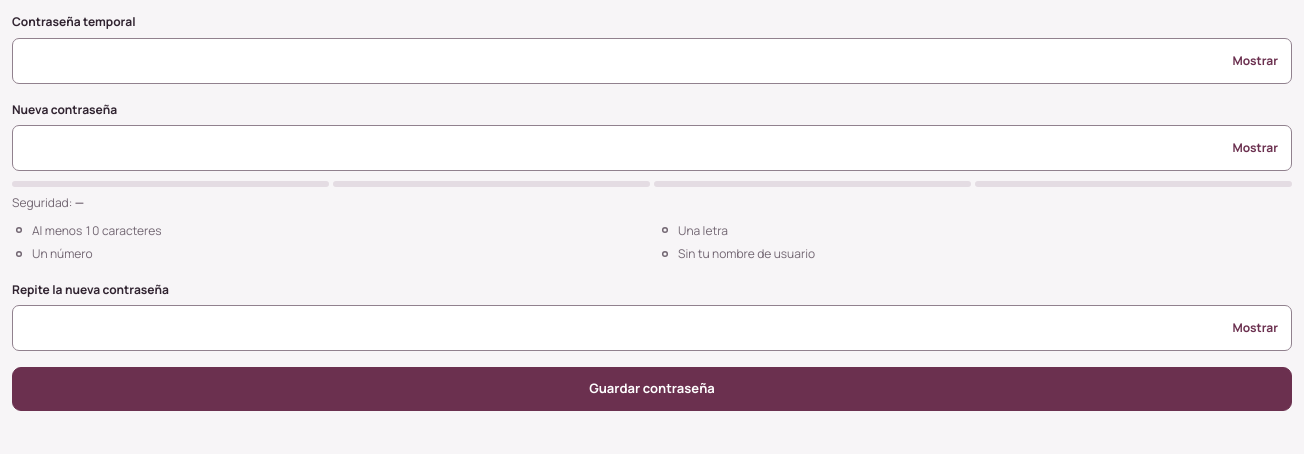
Scenario: FormularioCambioContrasena › muestra junto al campo lo que la política del backend rechaza
The width and height of the screenshot is (1304, 454).
Type "Temporal-1" into the password field labelled "Contraseña temporal". click: (652, 60)
box: [12, 38, 1292, 84]
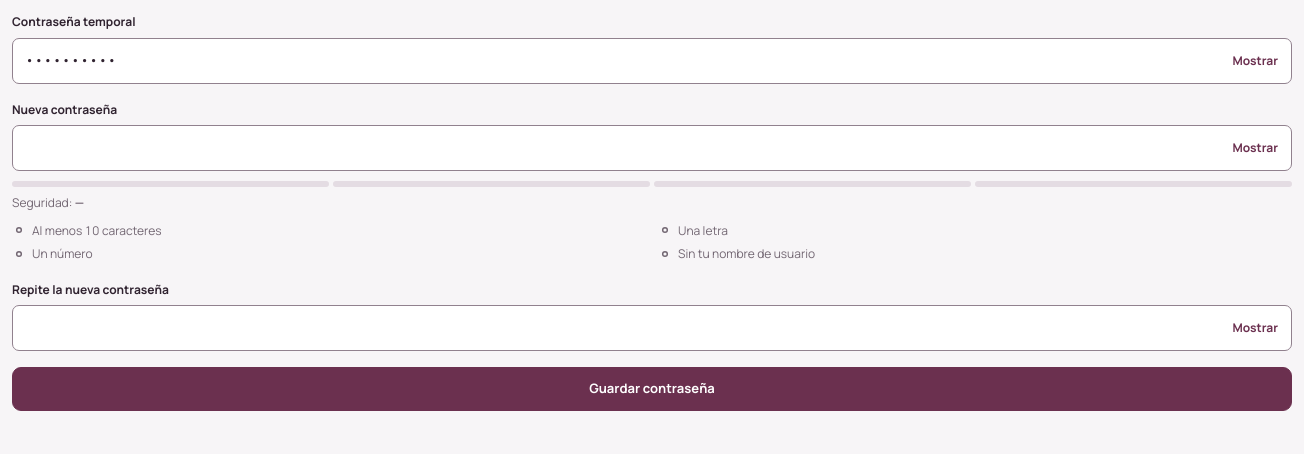
Type "SoloLetrasLargas" into the password field labelled "Nueva contraseña". click: (652, 148)
box: [12, 125, 1292, 171]
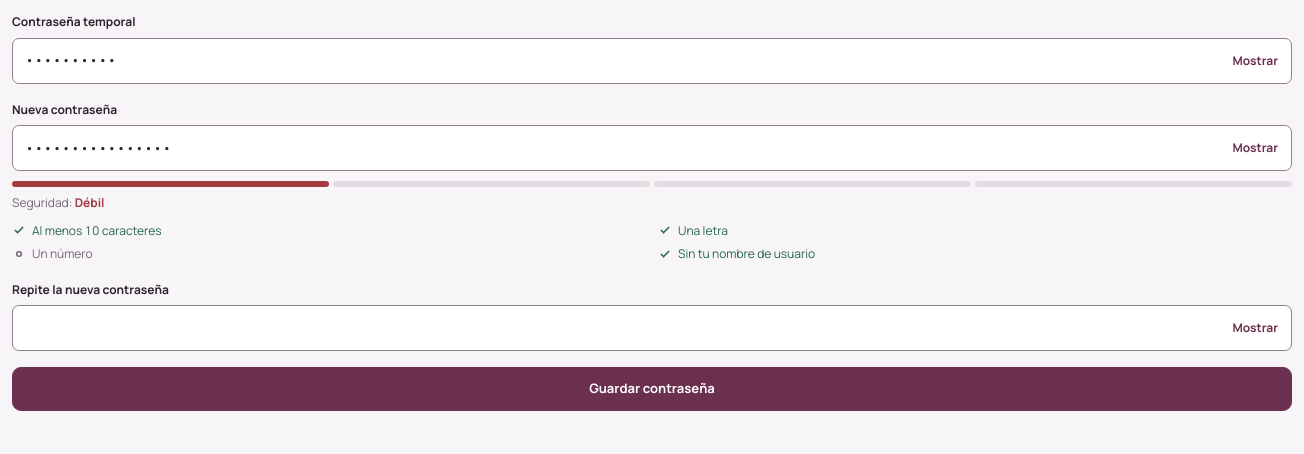
Type "SoloLetrasLargas" into the password field labelled "Repite la nueva contraseña". click: (652, 328)
box: [12, 305, 1292, 351]
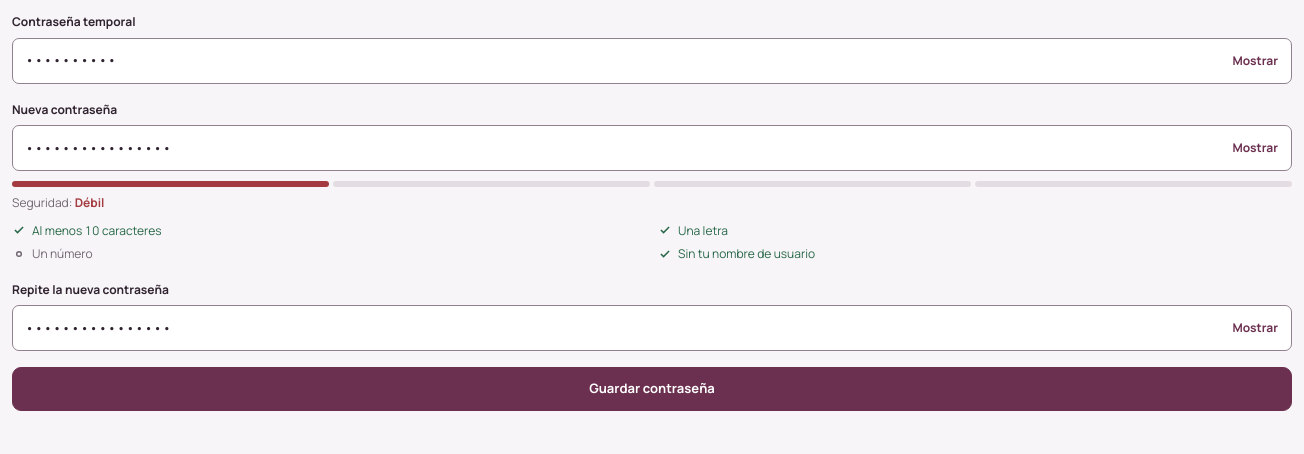
Submit the form
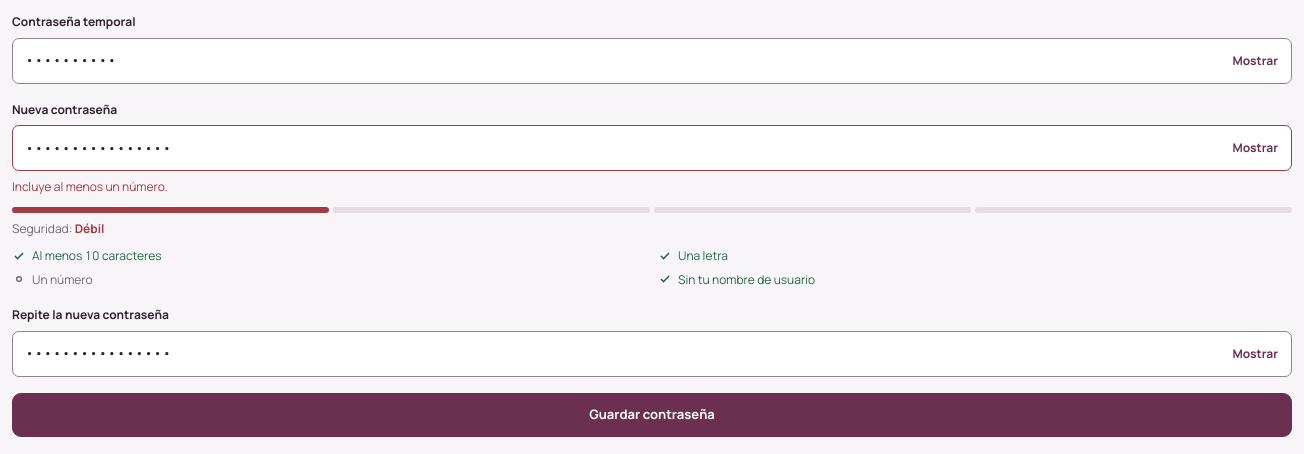
Check: the form shows "Incluye al menos un número.", box [12, 178, 168, 195]
